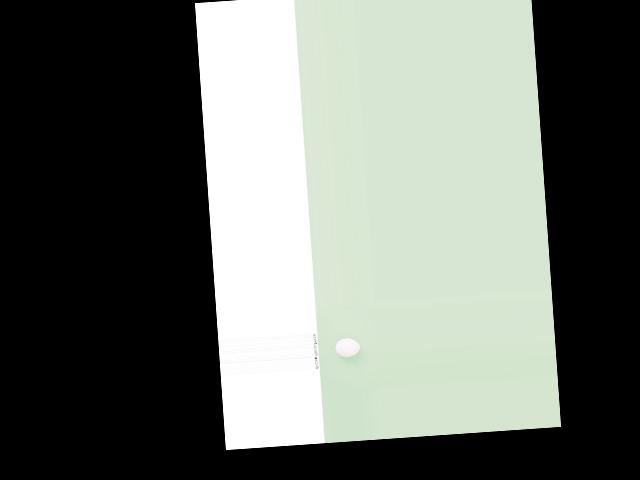egg: (334, 337, 360, 357)
